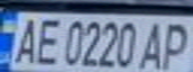0: (115, 18, 142, 70), (60, 16, 84, 68)
2: (78, 17, 103, 69), (100, 17, 124, 69)
A: (6, 14, 42, 65), (139, 18, 172, 71)
E: (30, 15, 63, 65)
P: (157, 18, 193, 71)
